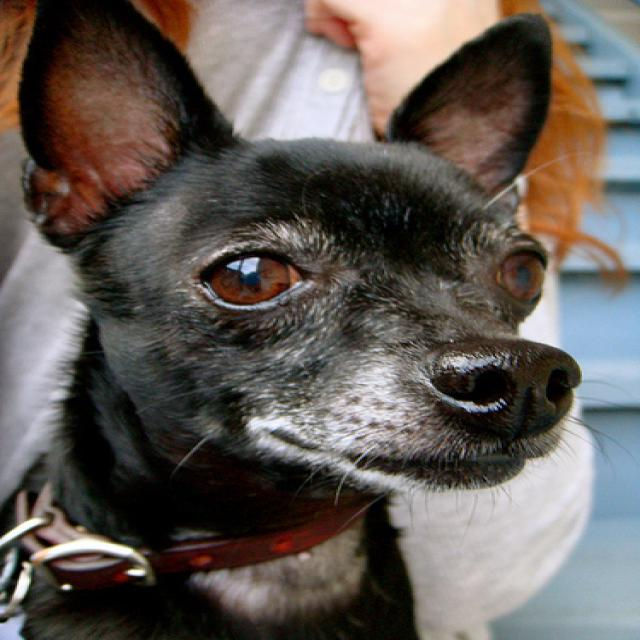dog-chihuahua: (2, 1, 606, 637)
